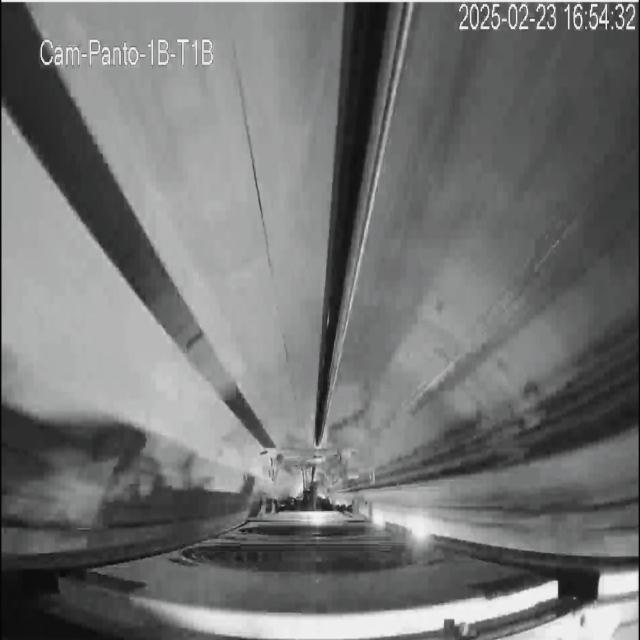Camera Stamp: (35, 29, 219, 72)
Date Stamp: (457, 3, 637, 33)
No - Spark: (173, 458, 459, 604), (234, 429, 312, 511)
